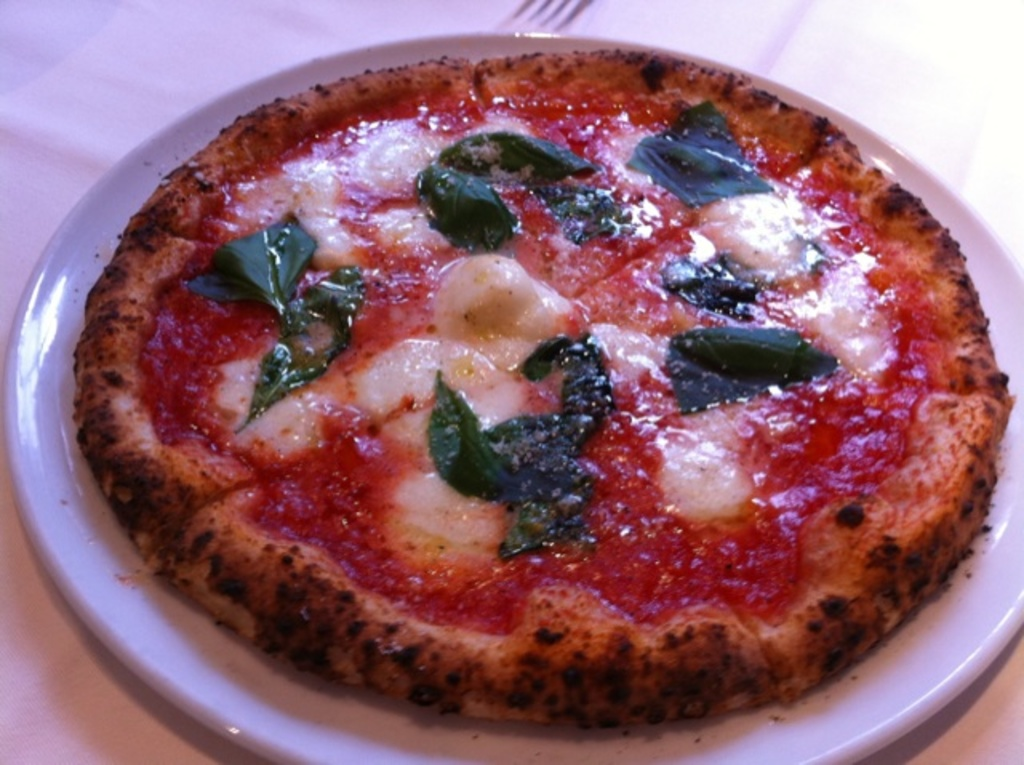Pizza: (67, 19, 1009, 740)
